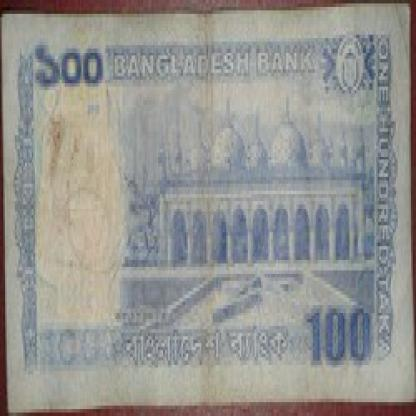one hundred taka: (303, 292, 373, 375), (31, 38, 106, 97)
